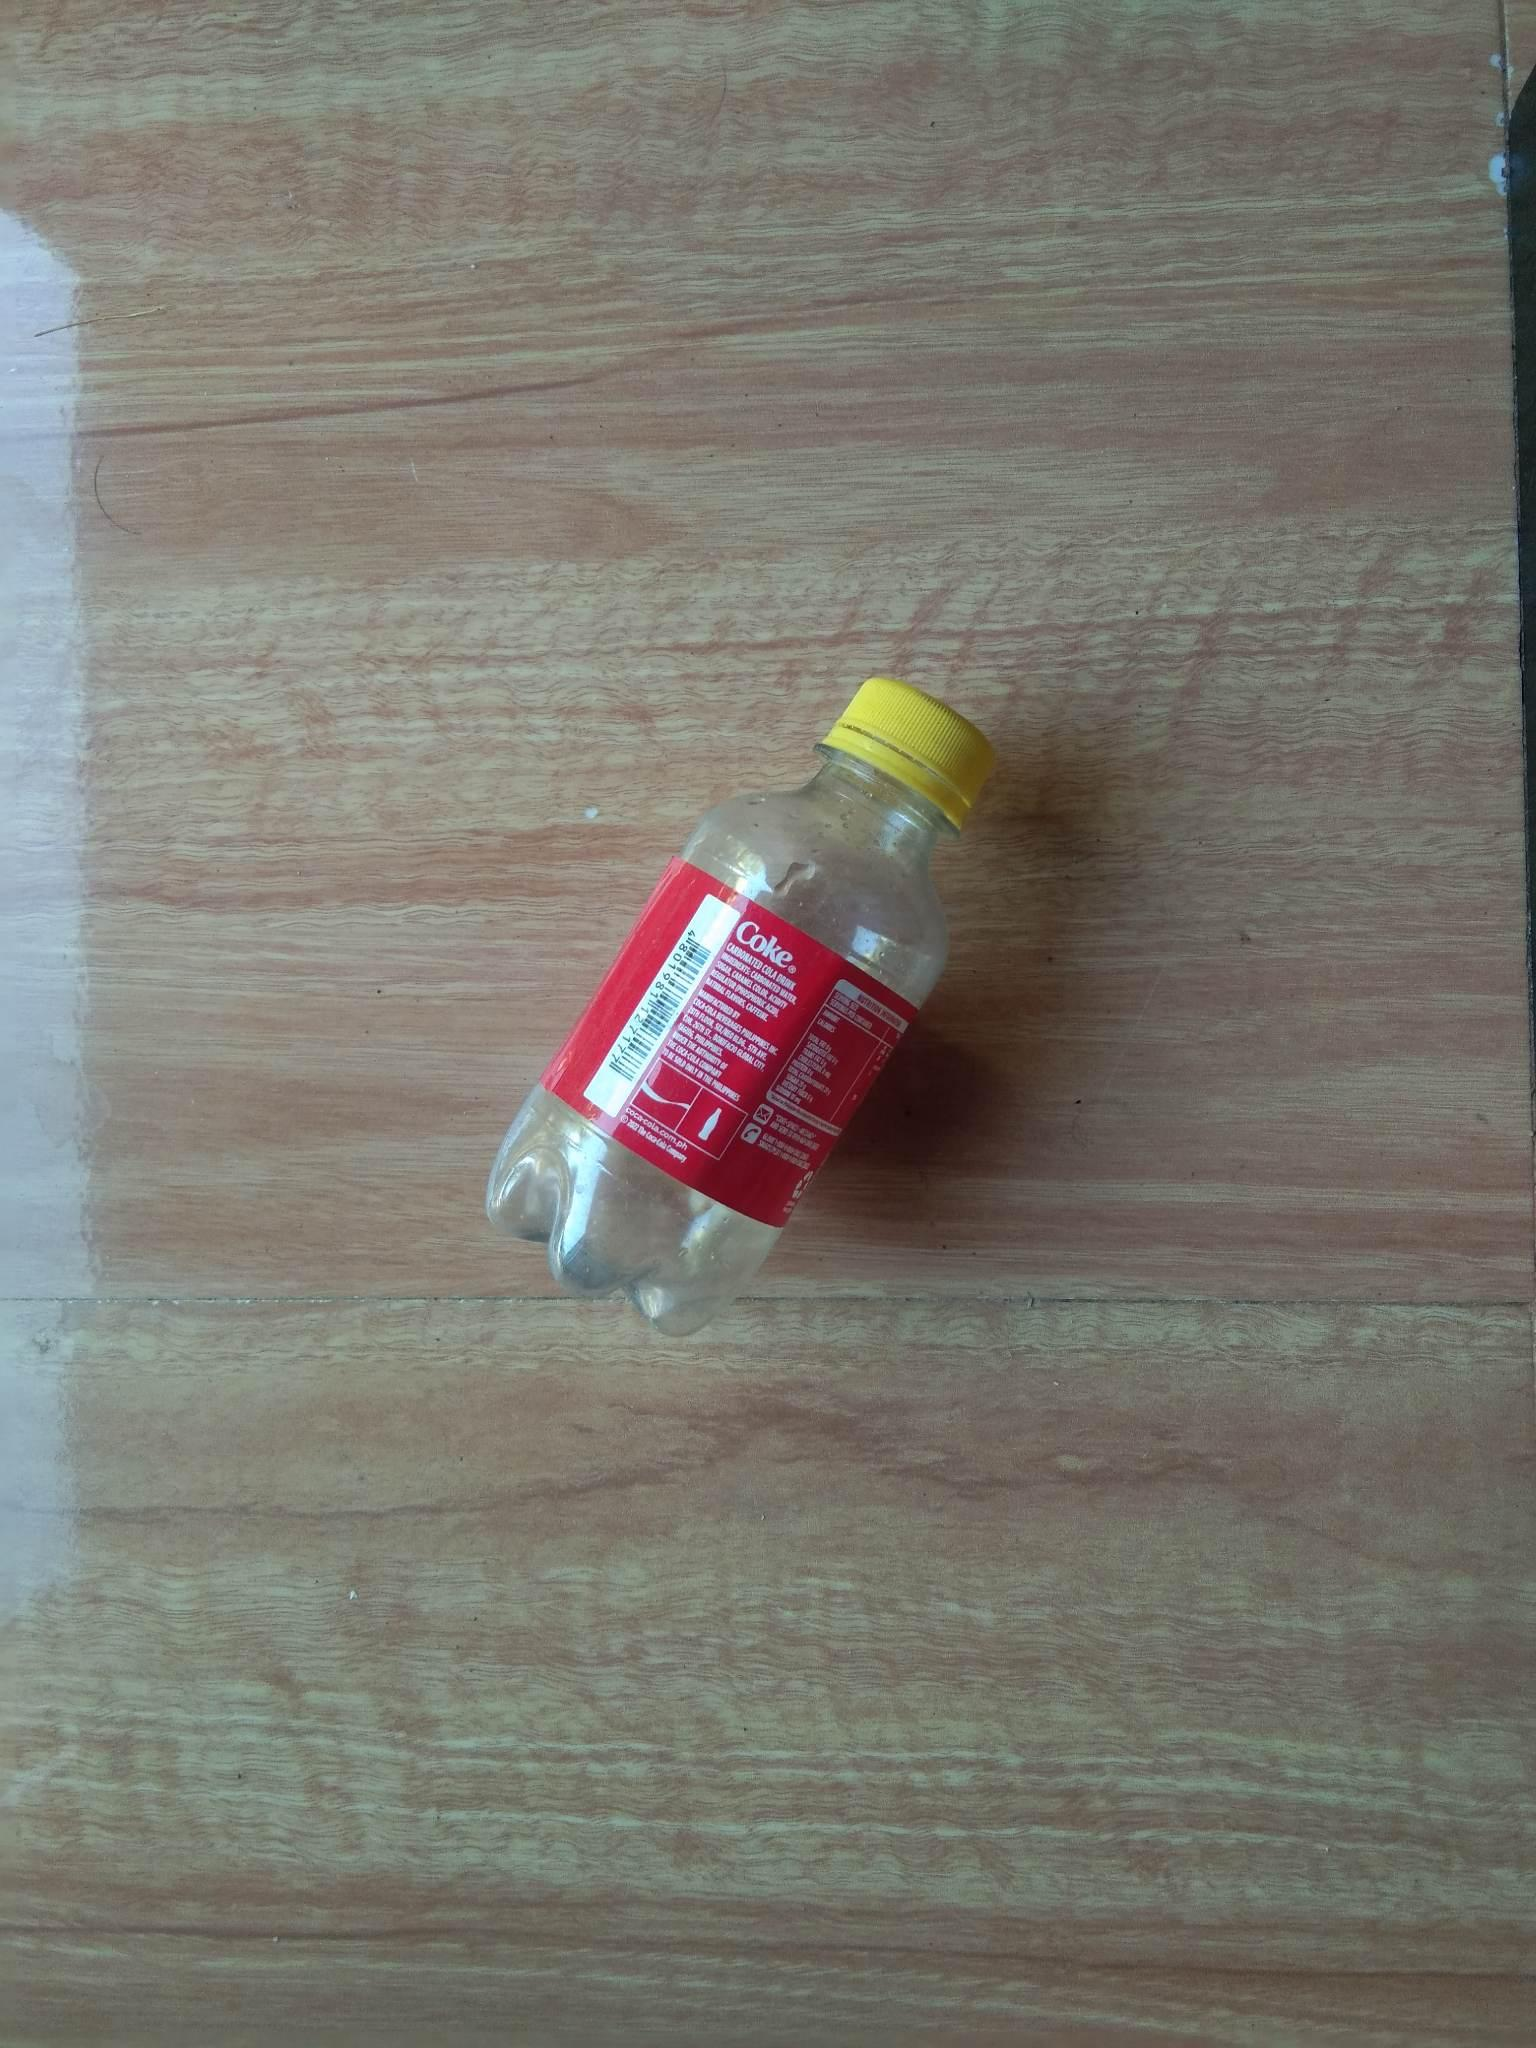plastic: (366, 611, 1155, 1411)
